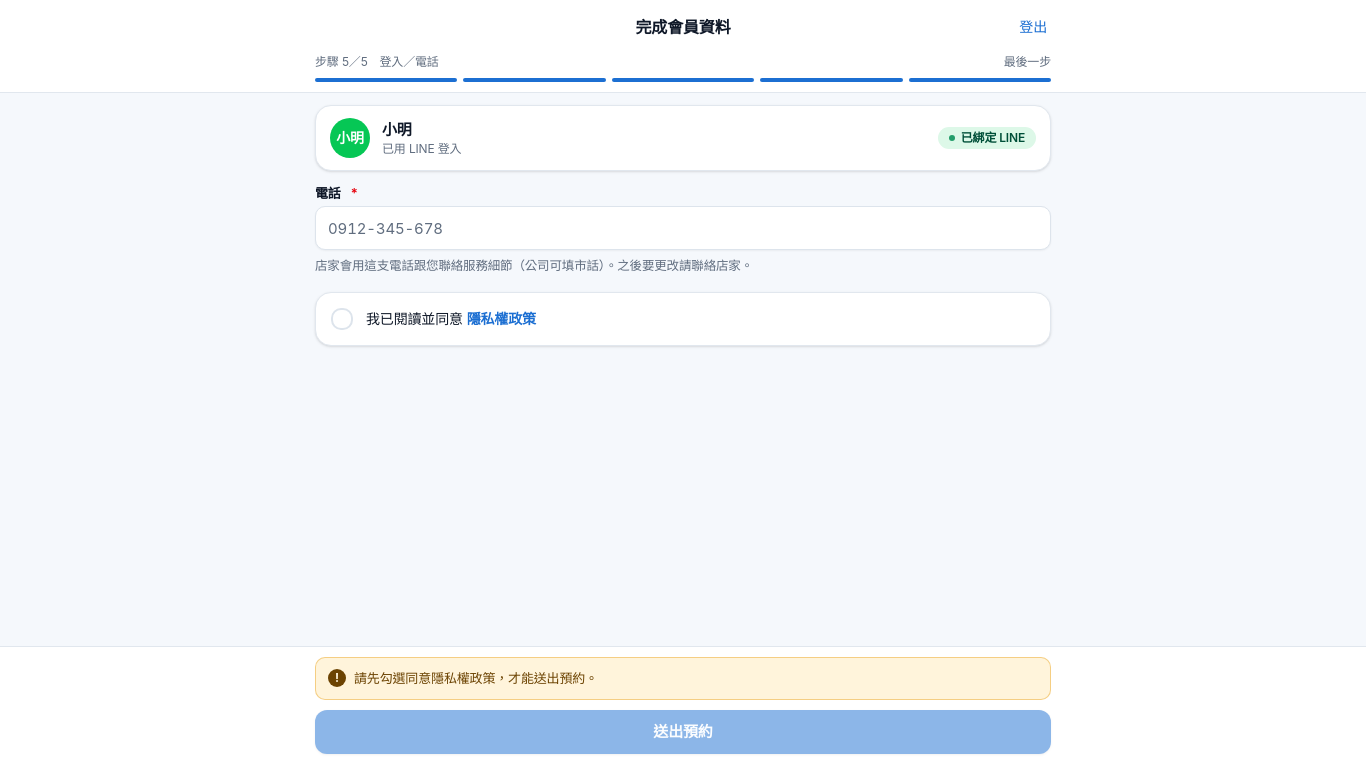
Test: C3-D02 ⑥-2「送出預約」:先接上會員、接著自動送出 › 兩段依序呼叫 ⇒ 完成頁
The width and height of the screenshot is (1366, 768).
Type "0912345678" into the field labelled "電話 *" at coordinates (683, 228), box [315,206,1051,250]
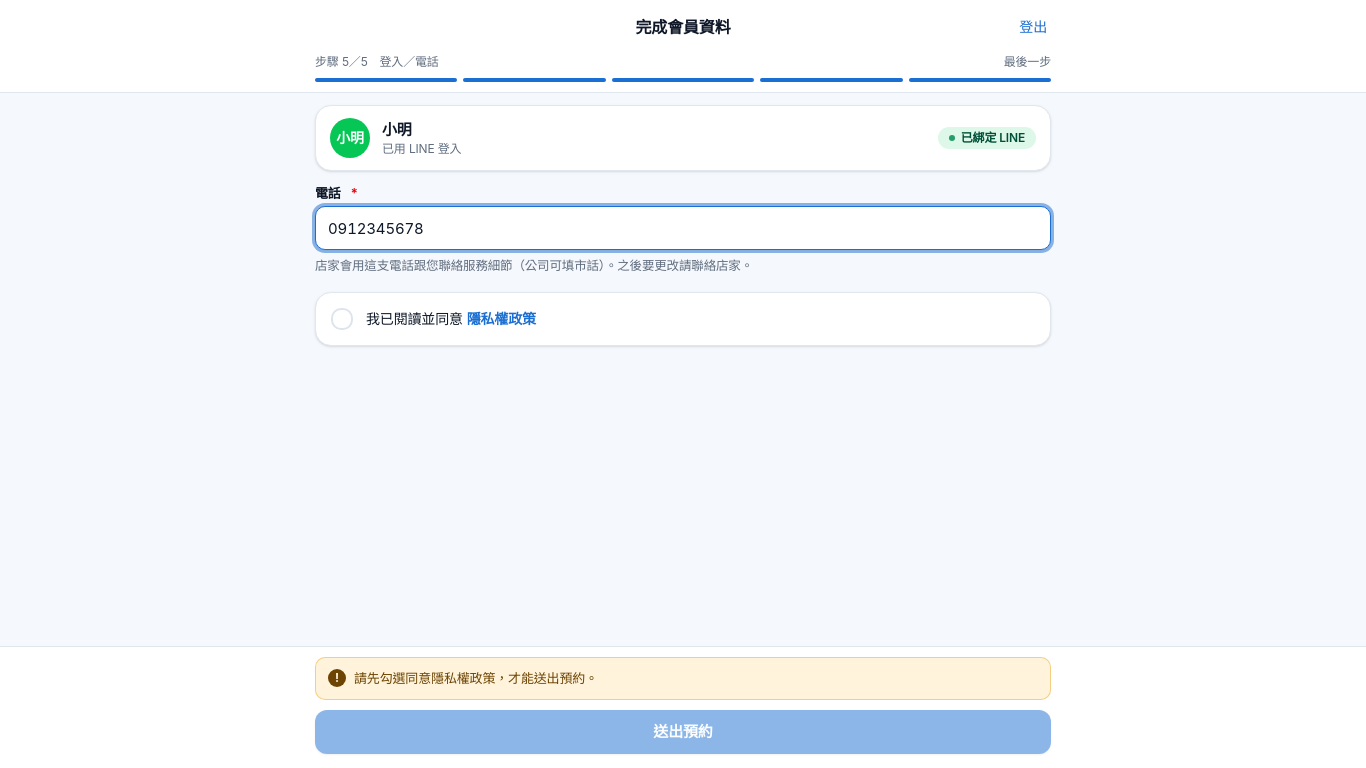
Click the checkbox with test id "customer-profile-consent" at coordinates (342, 319), box [320,297,364,341]
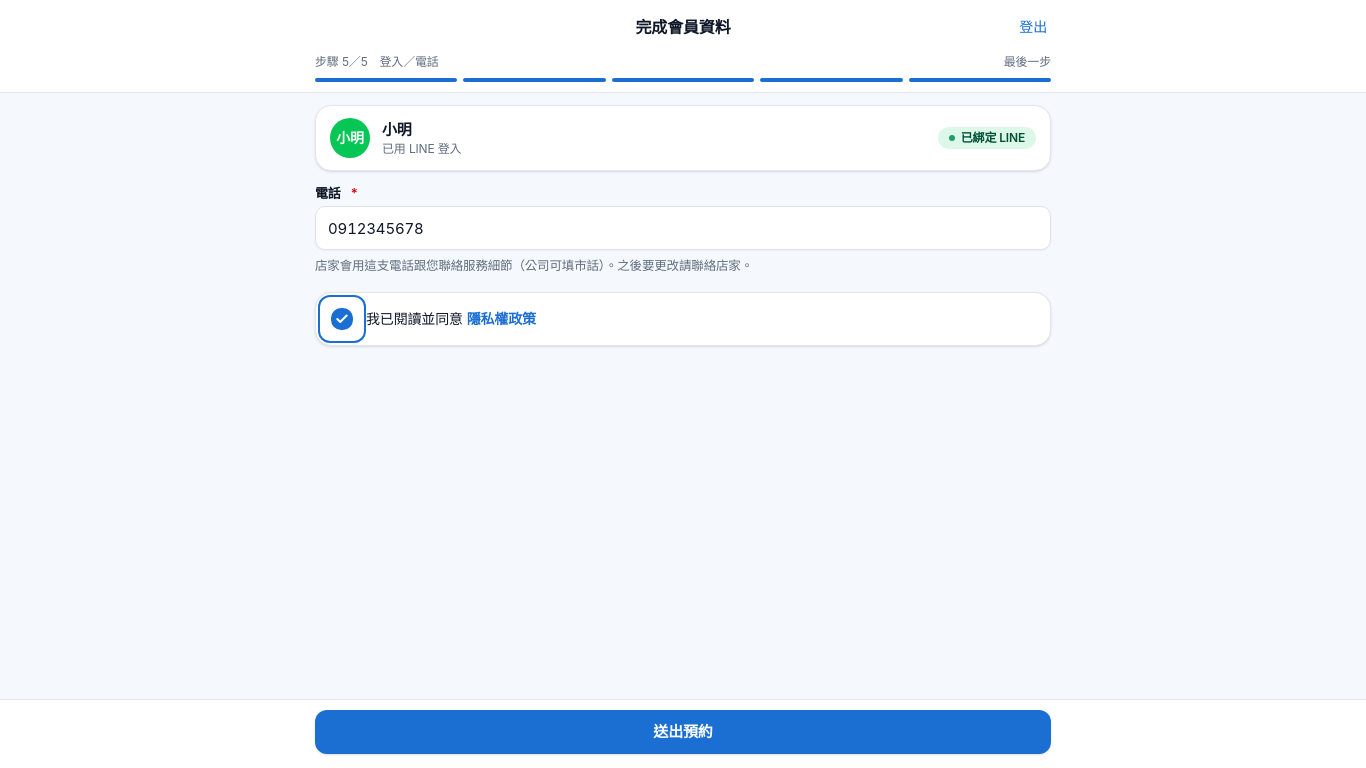
Click the button with test id "customer-profile-submit" at coordinates (683, 732), box [315,710,1051,754]
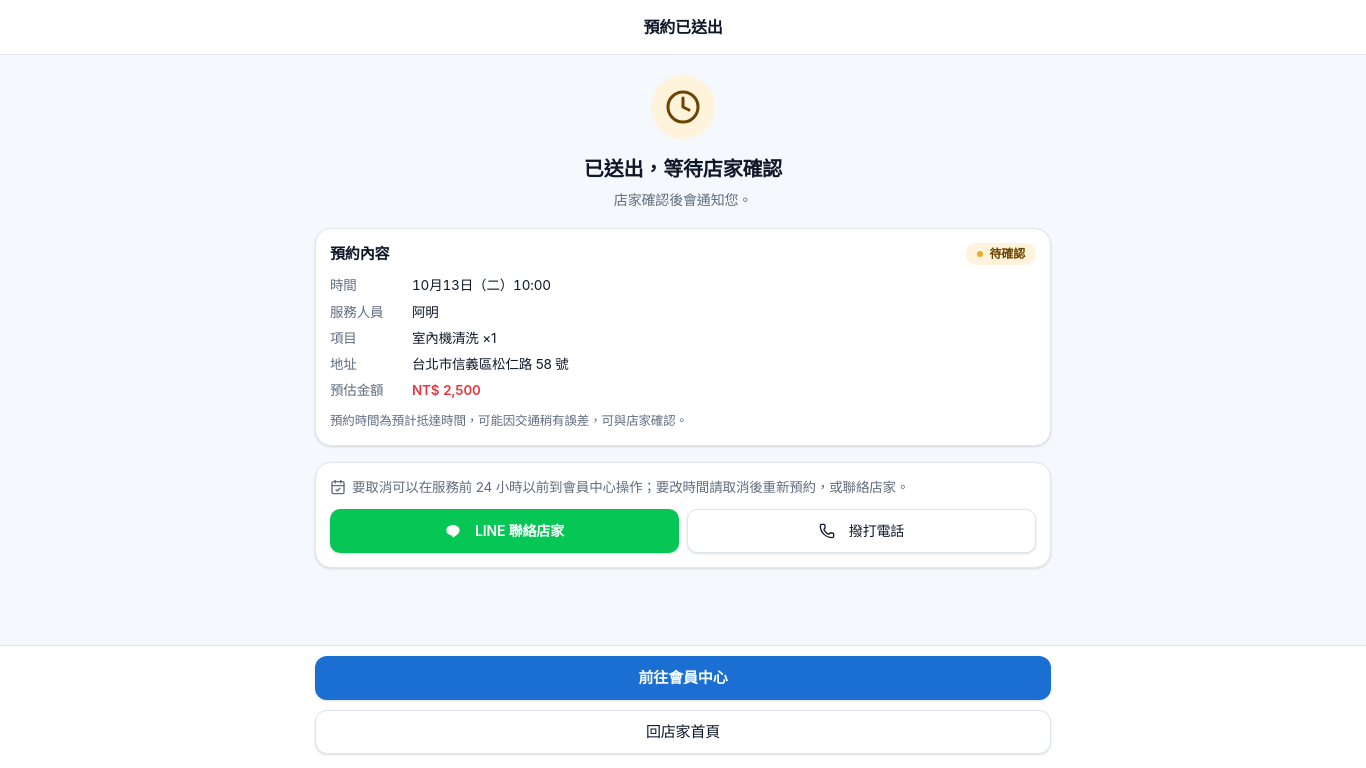
Now the element with test id "booking-complete" is shown, box [315,67,1051,576]
